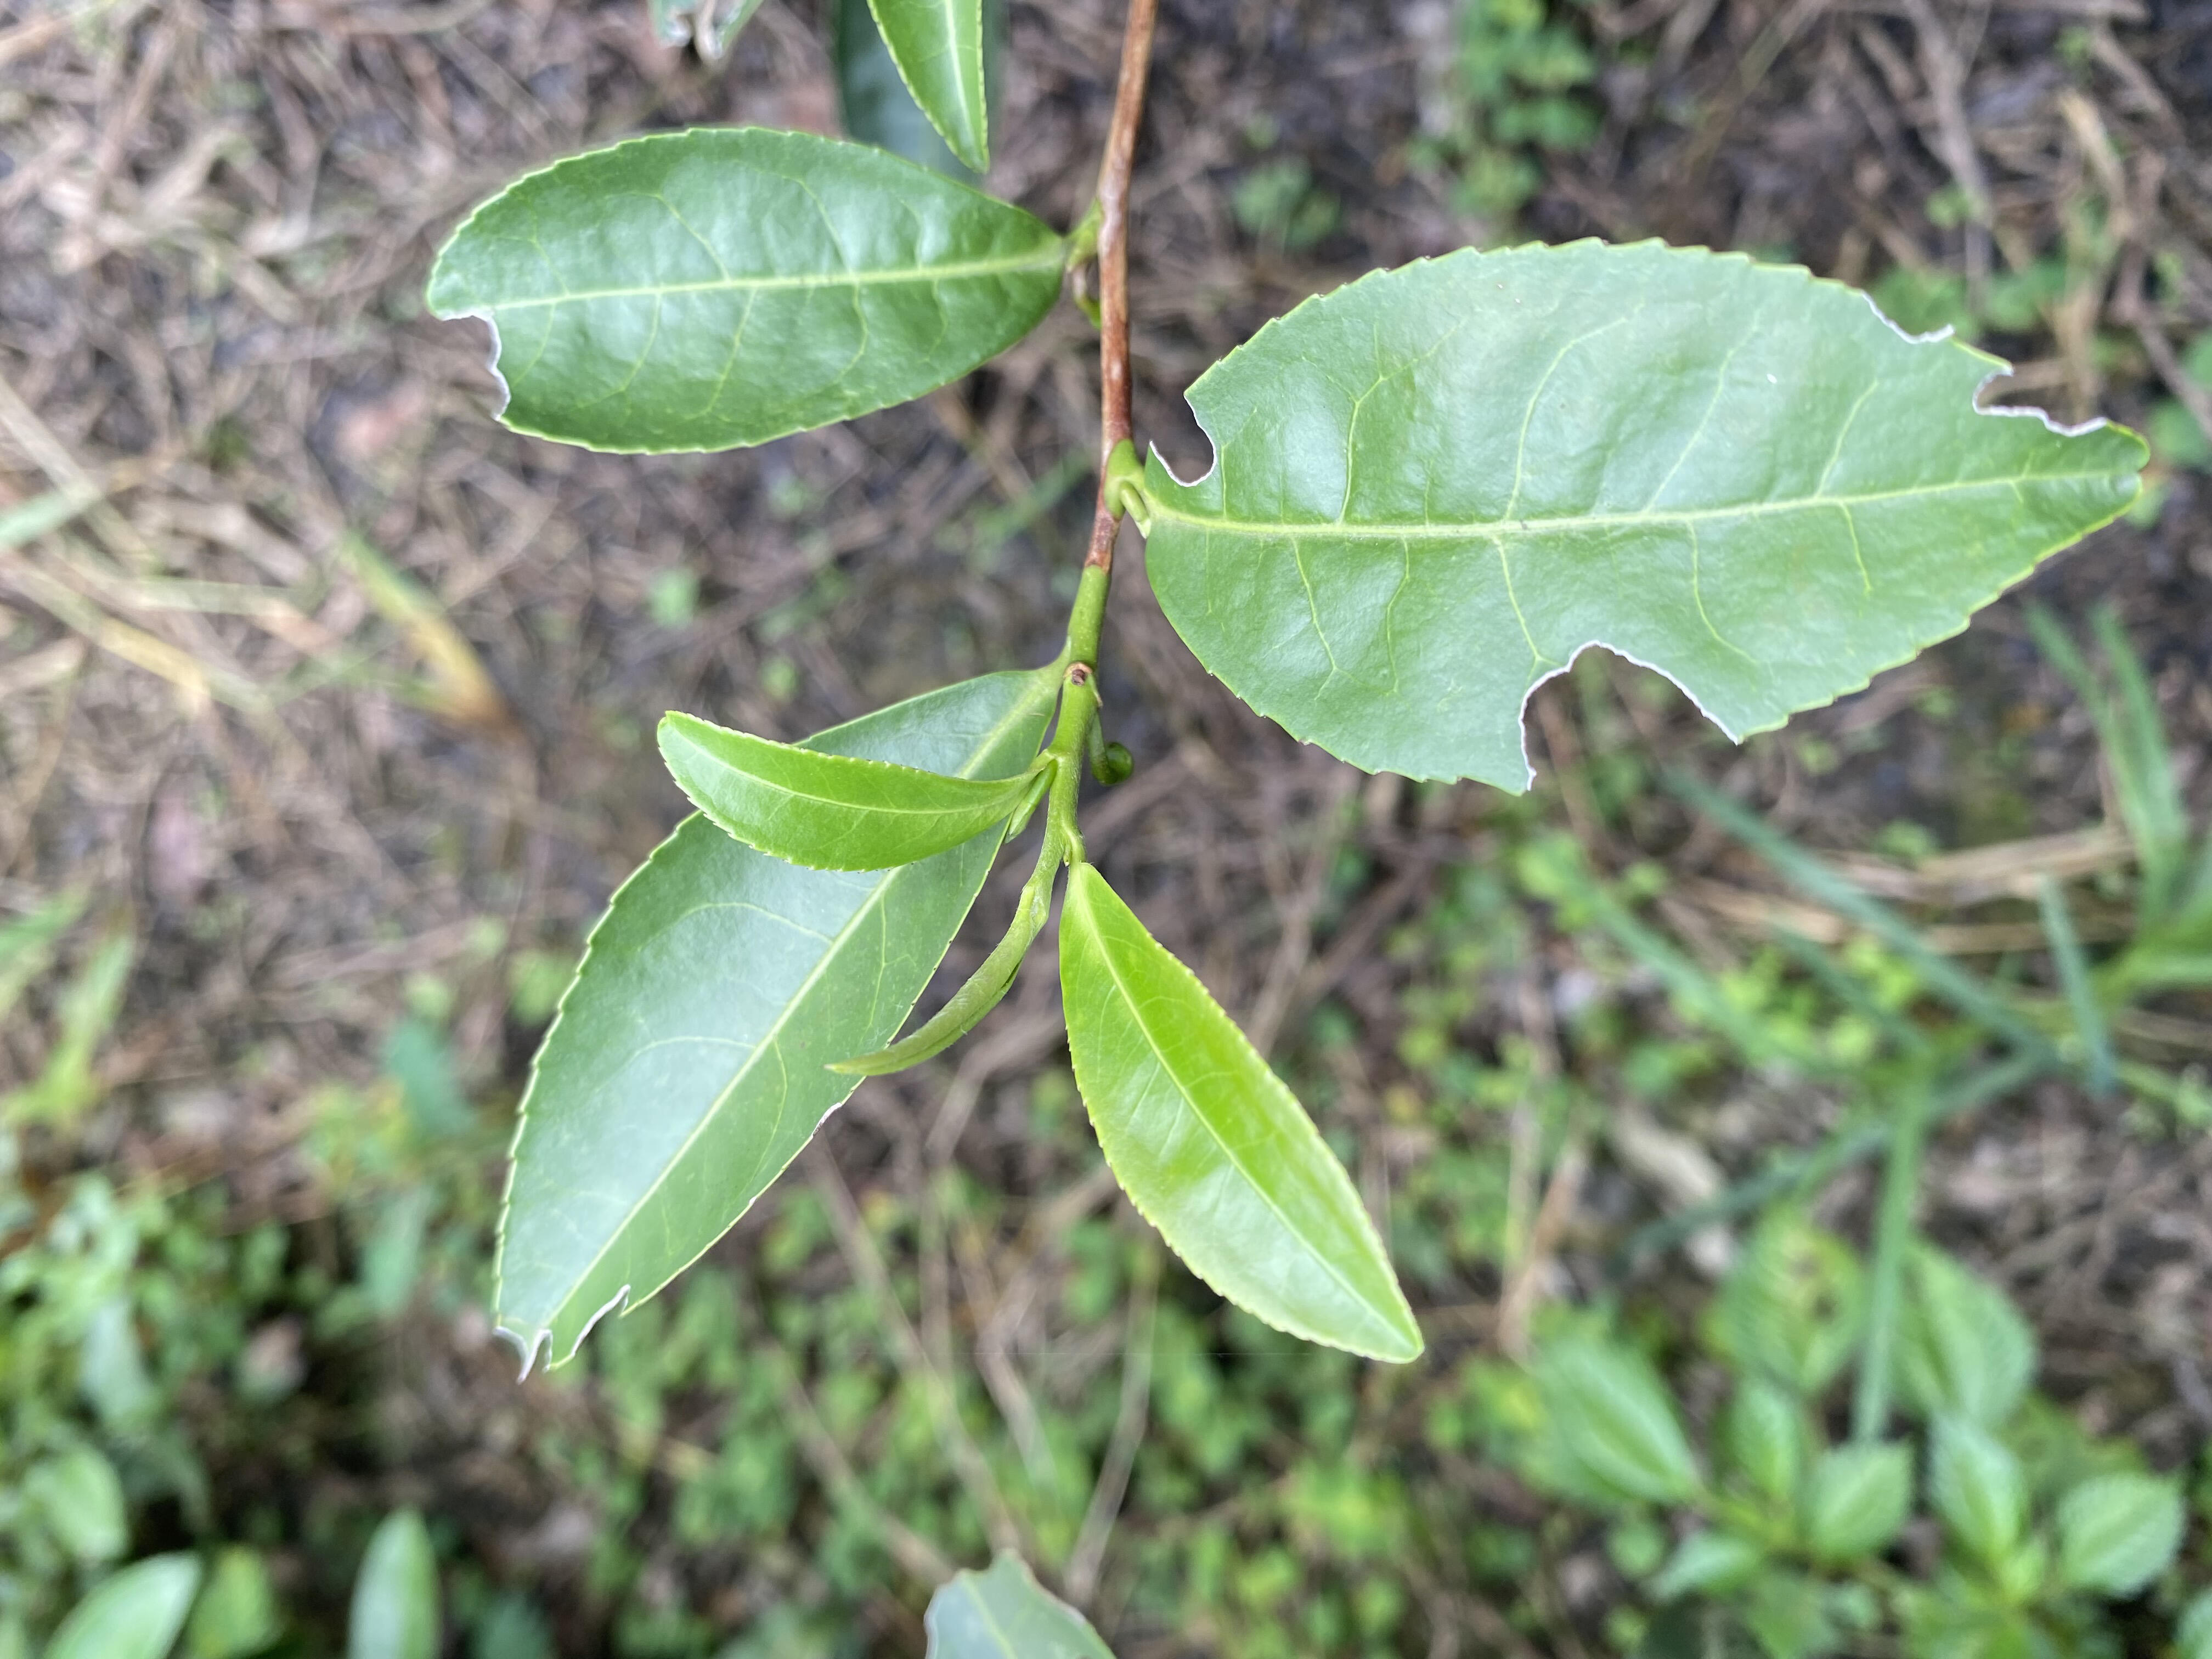chihuo_high: (1143, 234, 2153, 800), (489, 667, 1052, 1391)
chihuo_low: (423, 125, 1068, 451)
healthy: (1057, 863, 1425, 1364), (653, 711, 1028, 875)
